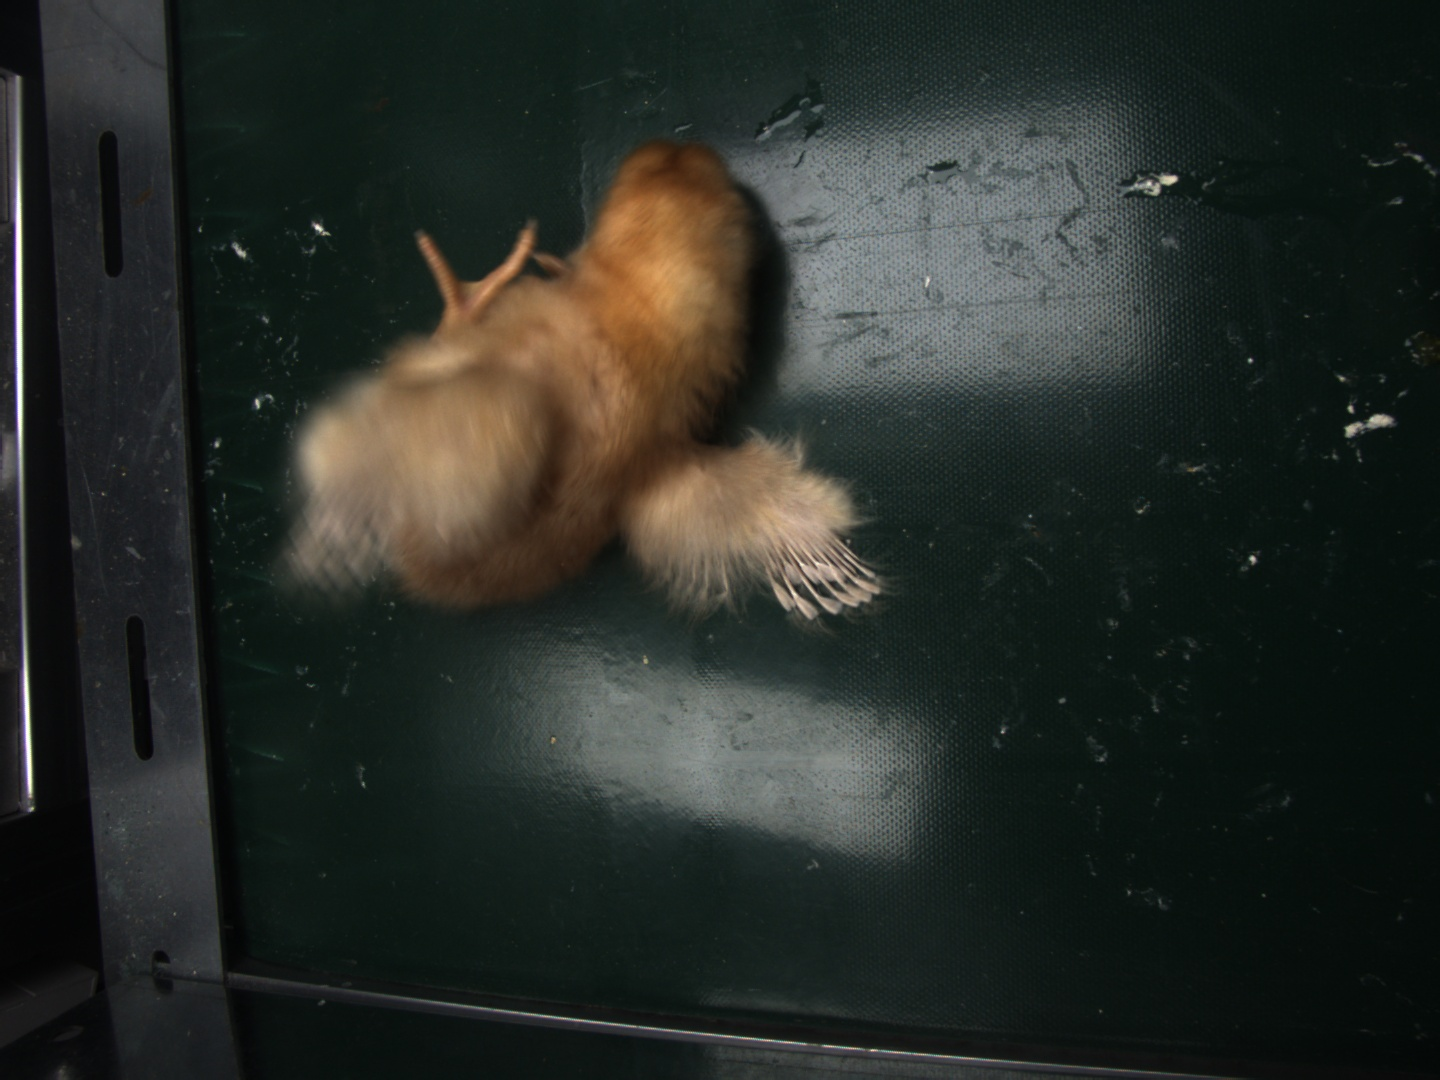female: (769, 534, 880, 623)
